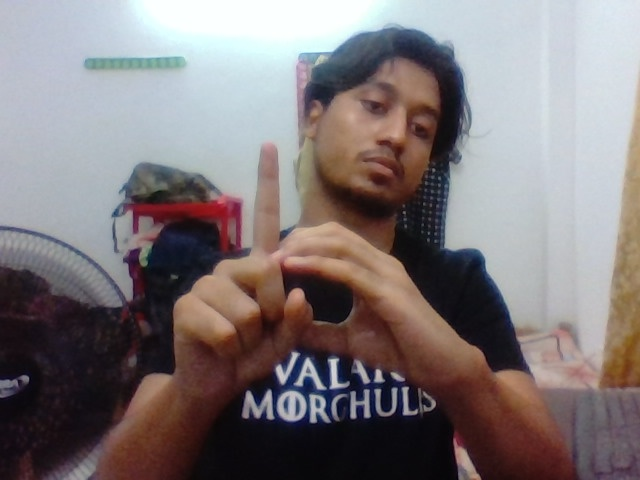D: (197, 132, 373, 356)
